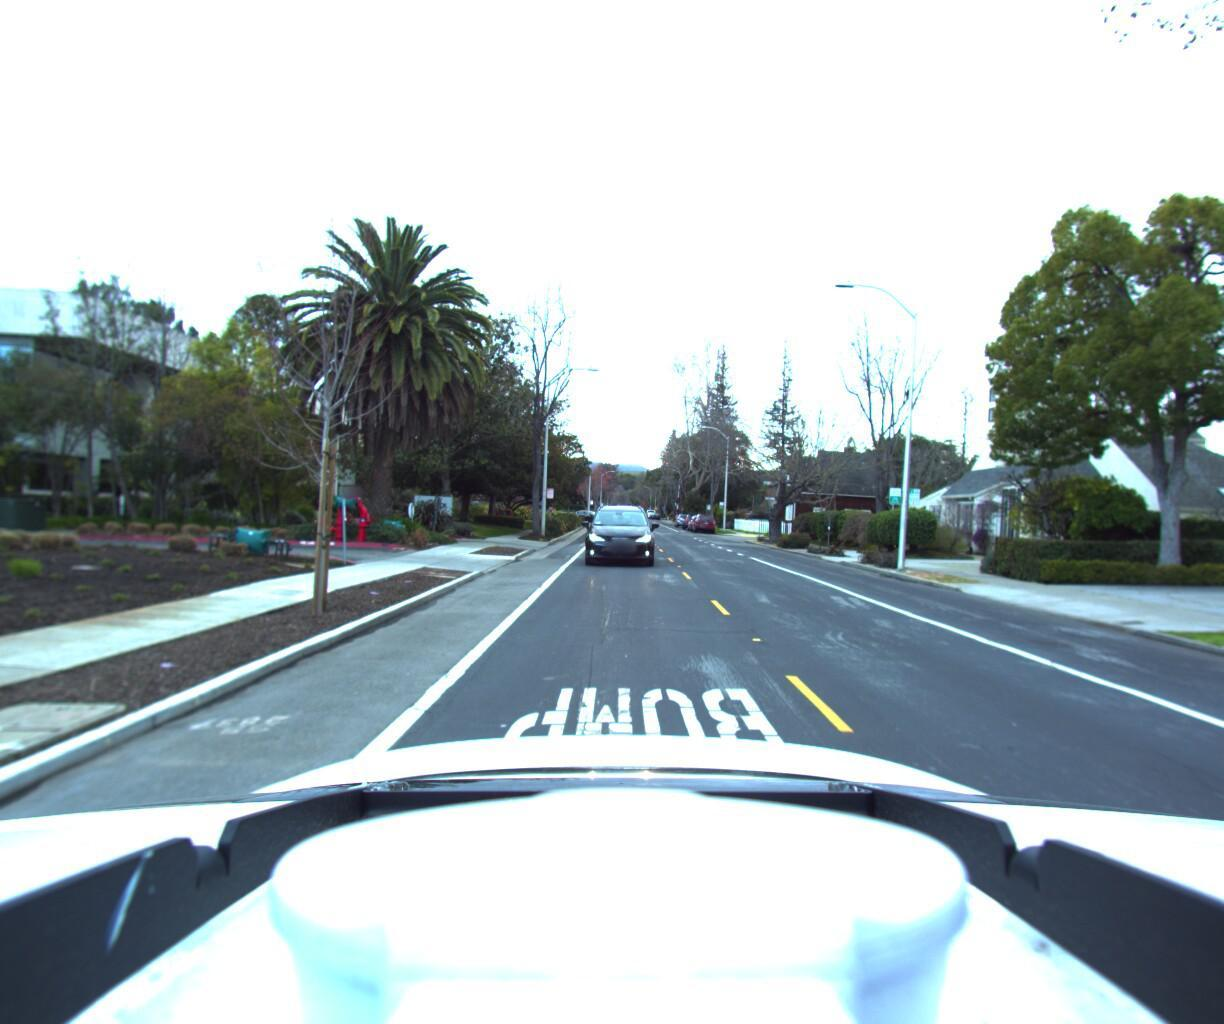car: (582, 500, 655, 569), (692, 511, 716, 532)
